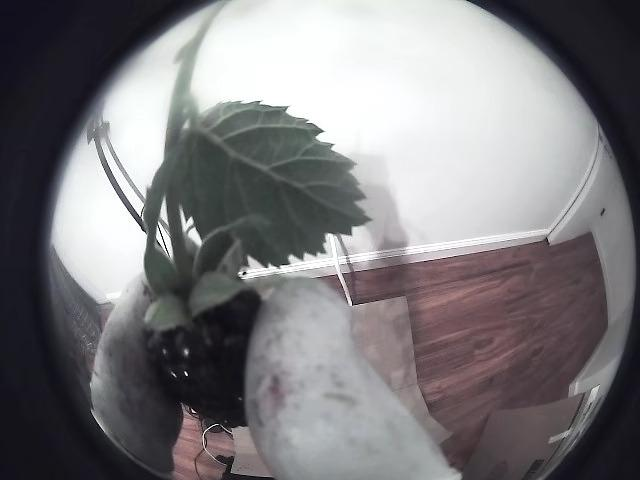berry: (143, 200, 260, 424), (165, 0, 229, 157)
gripper: (245, 278, 461, 479), (90, 274, 182, 475)
lense: (0, 0, 206, 479), (471, 0, 639, 479)
